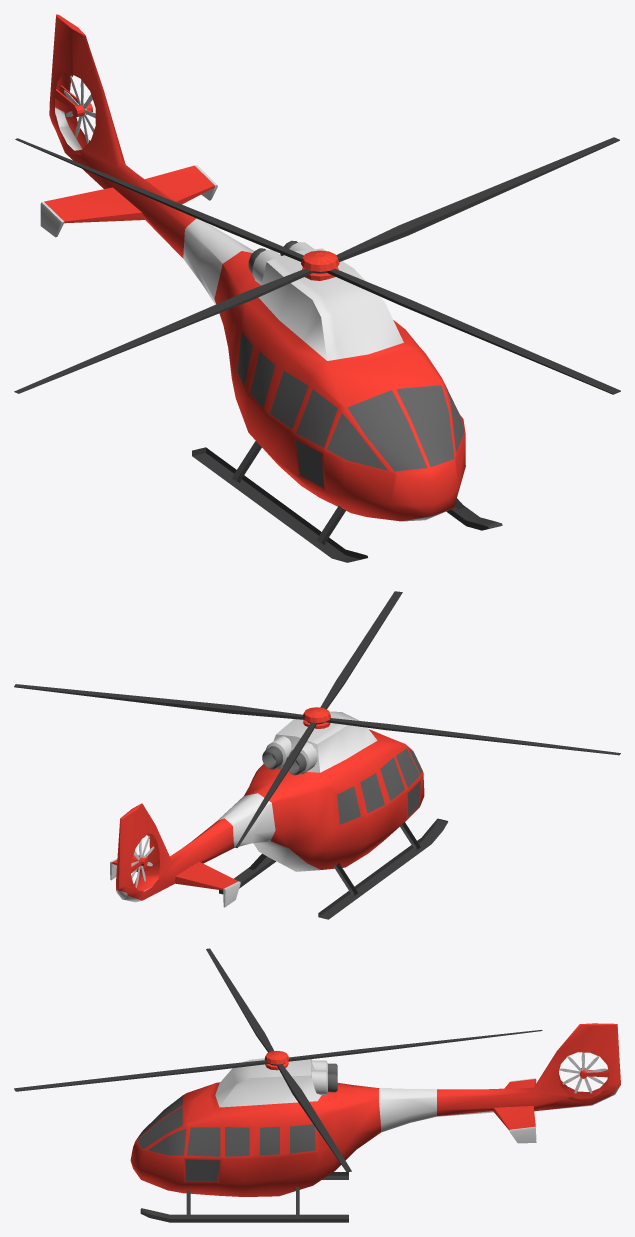
The model's file is heli.gltf.
The picture shows the model from 3 angles, top to bottom: view 1: azimuth 30°, elevation 25°; view 2: azimuth 150°, elevation 25°; view 3: azimuth 270°, elevation 25°; orthographic projection. The views are drawn at different scales.
Visible parts, largest first — view 1: Body, Propeller; view 2: Body, Propeller; view 3: Body, Propeller.
Part boxes in pixels (bbox=[...]): Body: bbox=[40, 14, 502, 562]; Propeller: bbox=[14, 137, 620, 394]; Body: bbox=[110, 711, 447, 919]; Propeller: bbox=[14, 591, 620, 847]; Body: bbox=[130, 1023, 620, 1222]; Propeller: bbox=[14, 948, 542, 1171].
Size of the model in its own units: 6.66 by 2.43 by 7.65.
Materials: 1 (1 with a texture image).
